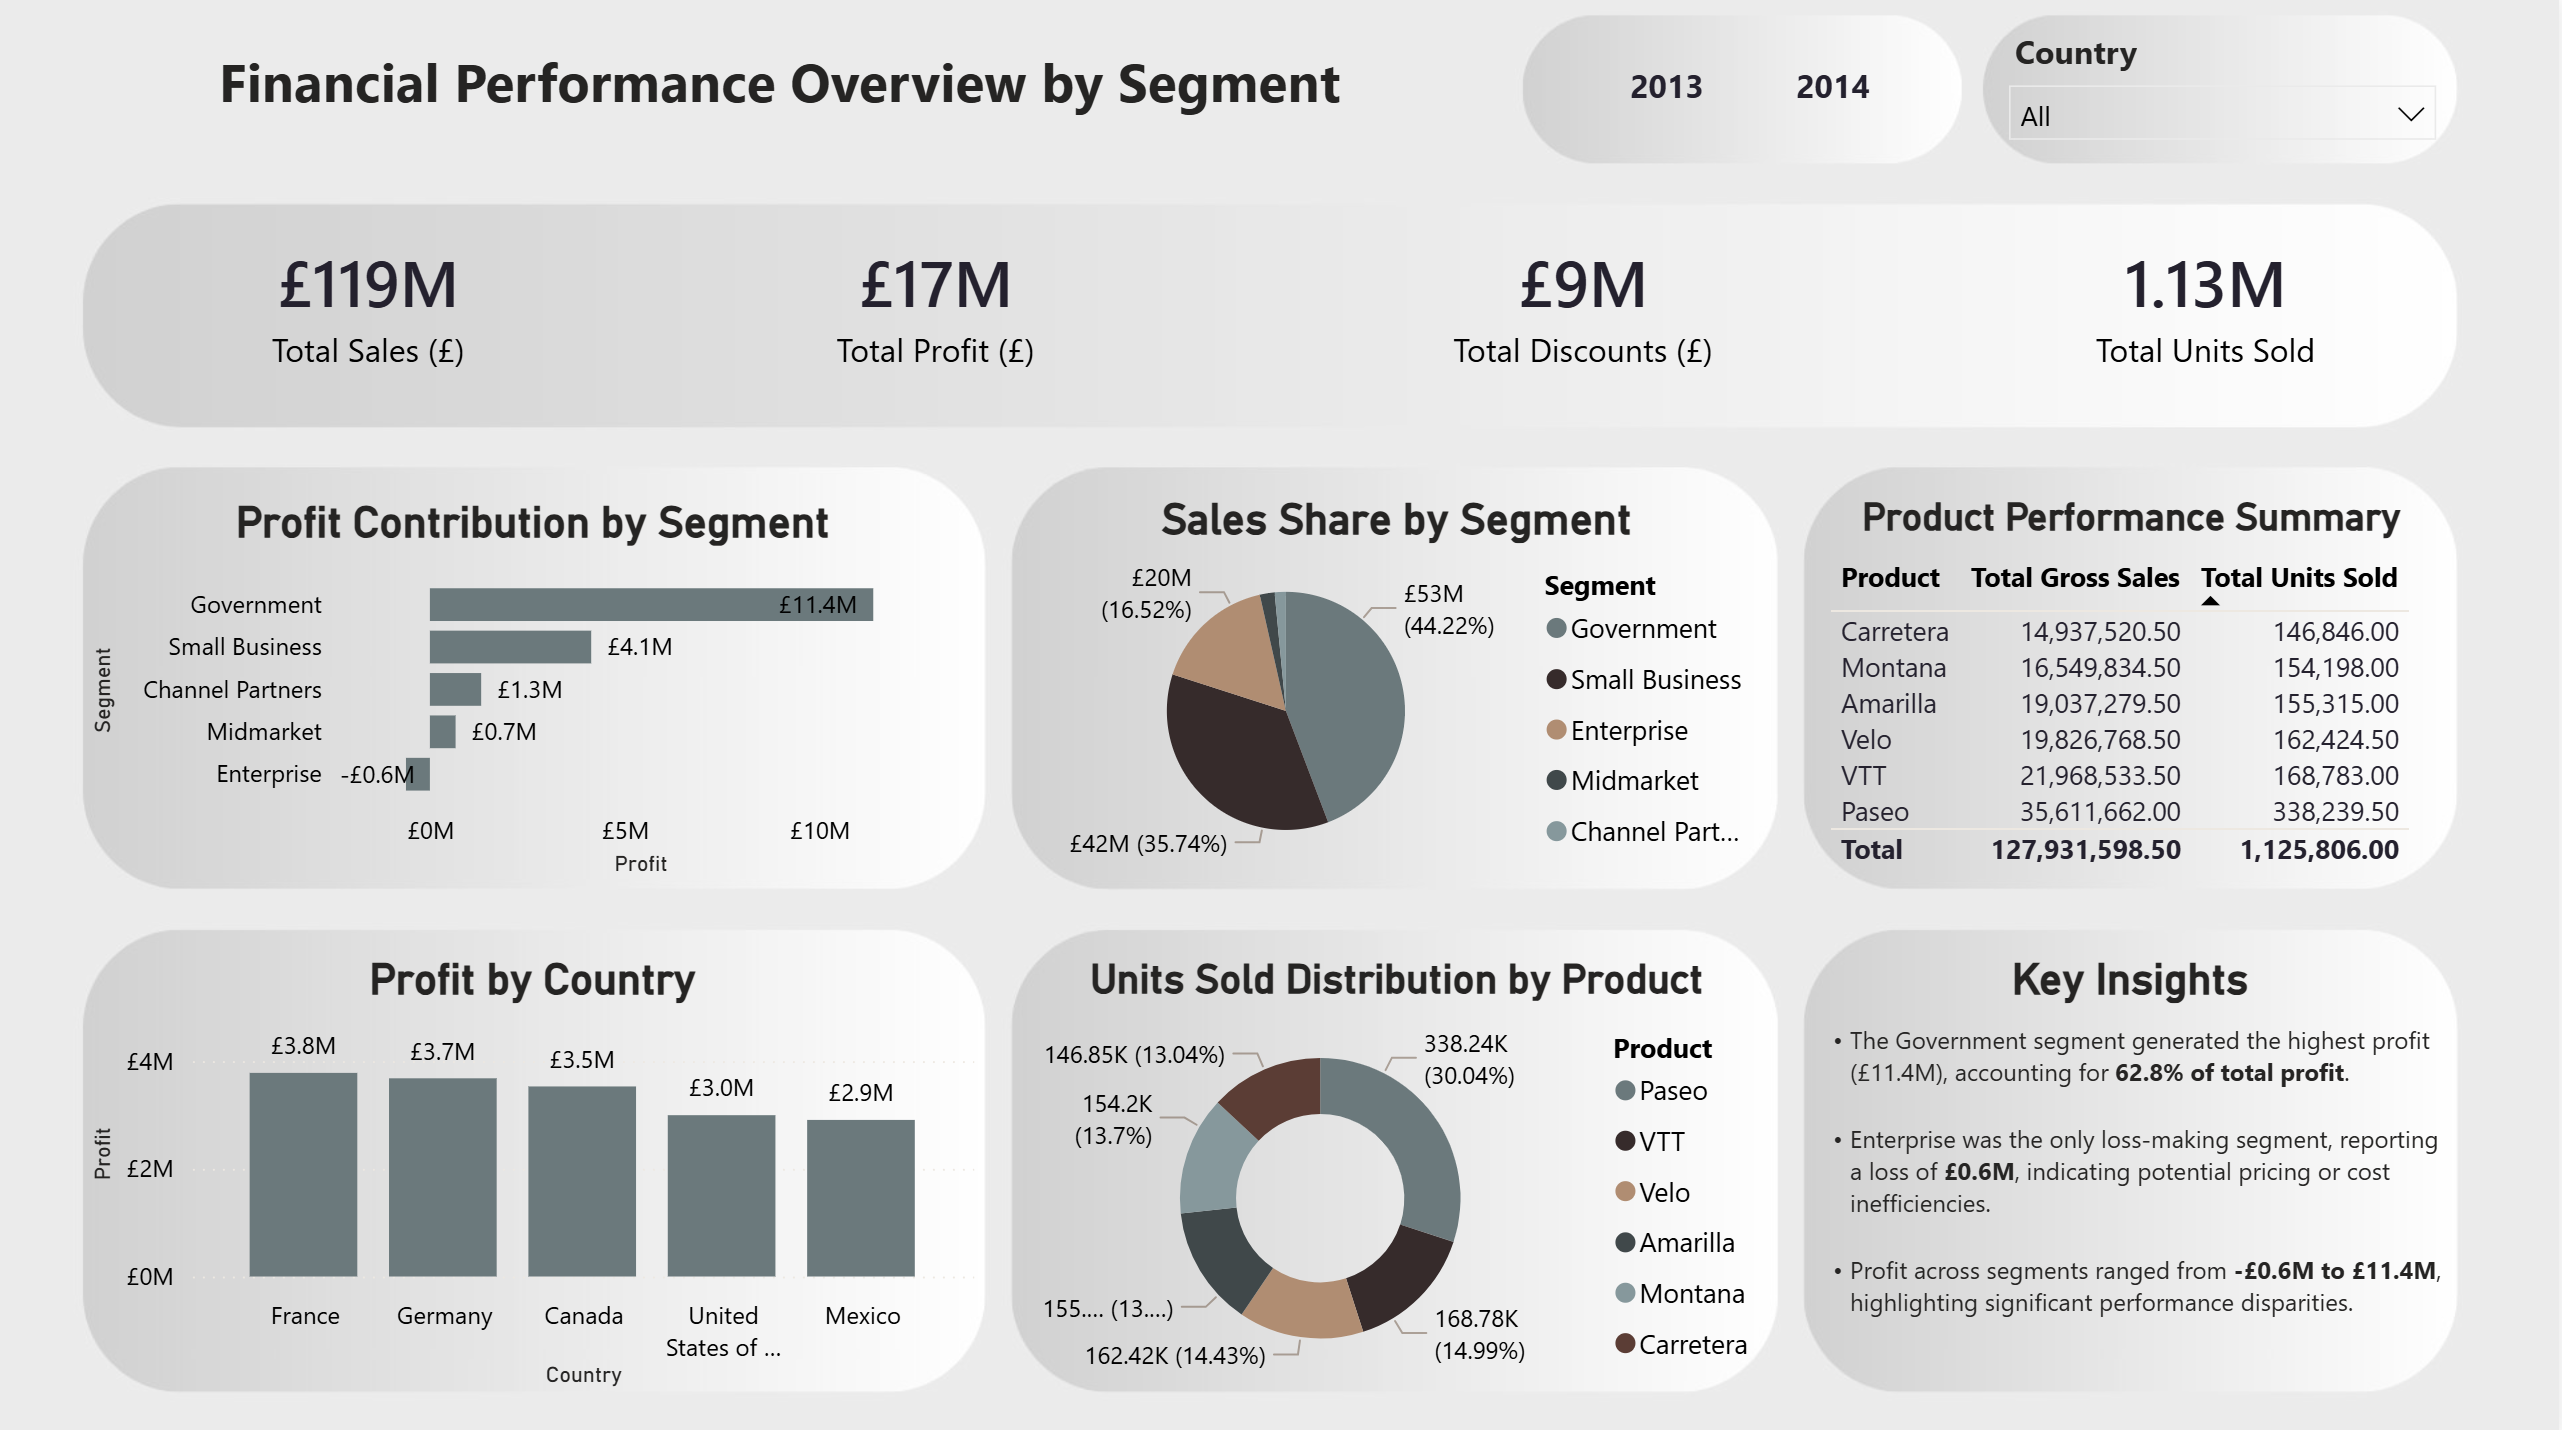

What the dashboard file says about the page in this screenshot:
{"tool":"powerbi","page":{"name":"Page 1","canvas":[1280,720],"ordinal":0},"visuals":[{"type":"columnChart","title":"Profit by Country","fields":{"Category":["financials.Country"],"Y":["Sum(financials.Profit)"]},"box":[12.3,462.4,480.3,236],"z":0},{"type":"clusteredBarChart","title":"Profit by Segment","fields":{"Category":["financials.Segment"],"Y":["Sum(financials.Profit)"]},"box":[12.3,233.3,480.3,209.9],"z":1000},{"type":"cardVisual","fields":{"Data":["Sum(financials. Sales)"]},"box":[12.3,85.1,197.6,124.9],"z":2000},{"type":"textbox","box":[18.3,0,604.1,75.8],"z":3000},{"type":"cardVisual","fields":{"Data":["Sum(financials.Profit)"]},"box":[230.5,85.1,172.9,124.9],"z":4000},{"type":"cardVisual","fields":{"Data":["Sum(financials.Discounts)"]},"box":[428.1,85.1,161.9,124.9],"z":5000},{"type":"cardVisual","fields":{"Data":["Sum(financials.Units Sold)"]},"box":[623,85.1,188,124.9],"z":6000},{"type":"donutChart","title":"Units Sold by Product","fields":{"Category":["financials.Product"],"Y":["Sum(financials.Units Sold)"]},"box":[509.1,462.4,435,236],"z":7000},{"type":"pieChart","title":"Sales by Segment","fields":{"Category":["financials.Segment"],"Y":["Sum(financials. Sales)"]},"box":[509.1,233.3,435,209.9],"z":8000},{"type":"advancedSlicerVisual","fields":{"Values":["financials.Year"]},"box":[1098.1,19.6,166.3,56.3],"z":9000},{"type":"slicer","fields":{"Values":["financials.Country"]},"box":[854.8,19.6,233.6,56.3],"z":10000},{"type":"textbox","box":[961.9,462.4,301.9,233.3],"z":11000},{"type":"tableEx","fields":{"Values":["financials.Product","Sum(financials.Gross Sales)","Sum(financials.Units Sold)"]},"box":[961.9,233.3,301.9,211.3],"z":12000}]}

Visuals, with their boxes in screenshot pixels (x1, y1, x2, y2), scaled from the page's 1280x720 canvas onto the 2562x1430 screenshot:
"Profit by Country" columnChart: {"left": 25, "top": 918, "right": 986, "bottom": 1387}
"Profit by Segment" clusteredBarChart: {"left": 25, "top": 463, "right": 986, "bottom": 880}
cardVisual - Sum(financials. Sales): {"left": 25, "top": 169, "right": 420, "bottom": 417}
textbox: {"left": 37, "top": 0, "right": 1246, "bottom": 151}
cardVisual - Sum(financials.Profit): {"left": 461, "top": 169, "right": 807, "bottom": 417}
cardVisual - Sum(financials.Discounts): {"left": 857, "top": 169, "right": 1181, "bottom": 417}
cardVisual - Sum(financials.Units Sold): {"left": 1247, "top": 169, "right": 1623, "bottom": 417}
"Units Sold by Product" donutChart: {"left": 1019, "top": 918, "right": 1890, "bottom": 1387}
"Sales by Segment" pieChart: {"left": 1019, "top": 463, "right": 1890, "bottom": 880}
advancedSlicerVisual - financials.Year: {"left": 2198, "top": 39, "right": 2531, "bottom": 151}
slicer - financials.Country: {"left": 1711, "top": 39, "right": 2179, "bottom": 151}
textbox: {"left": 1925, "top": 918, "right": 2530, "bottom": 1382}
tableEx - financials.Product x Sum(financials.Gross Sales): {"left": 1925, "top": 463, "right": 2530, "bottom": 883}
